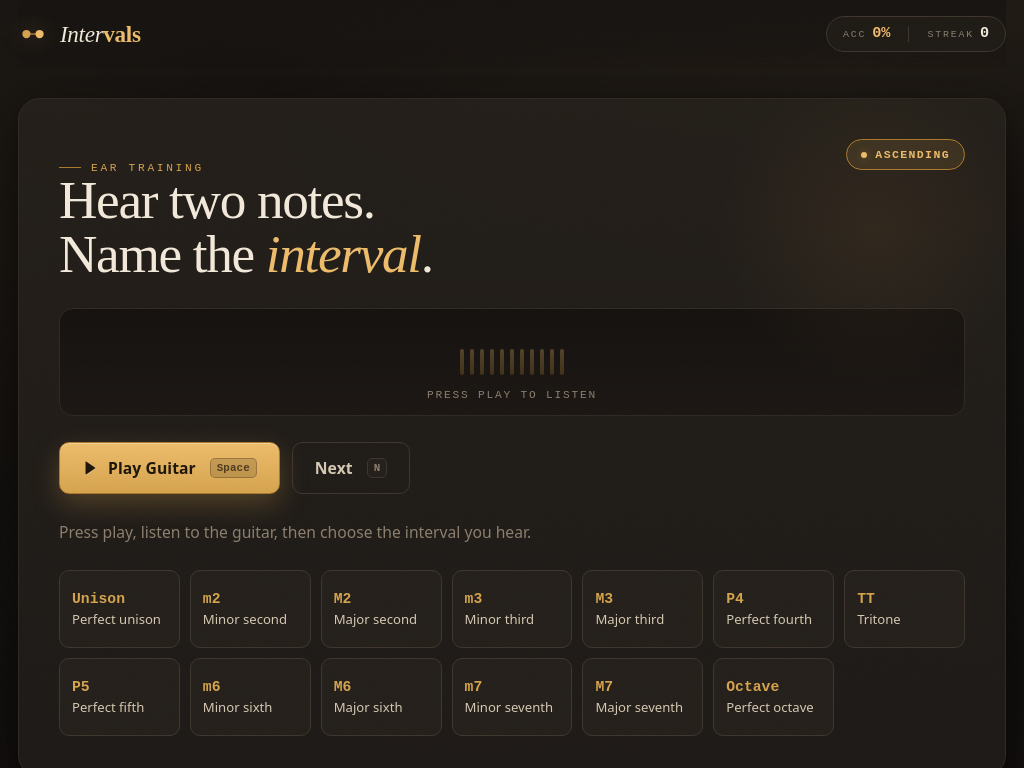
it: App feedback › shows correct feedback and marks the correct answer
Click the button "M3 Major third" at {"x": 643, "y": 609}, box 582,570 -> 703,648
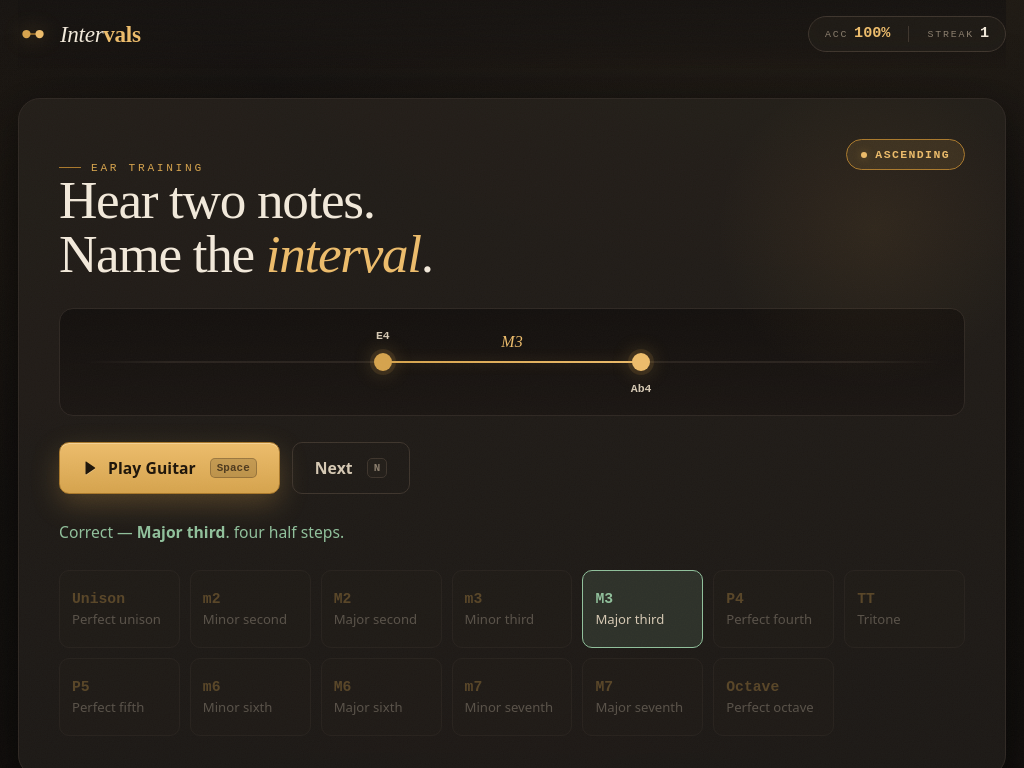
expect the message reads "Correct — Major third. four half steps.": met, box 59,521 -> 344,543
